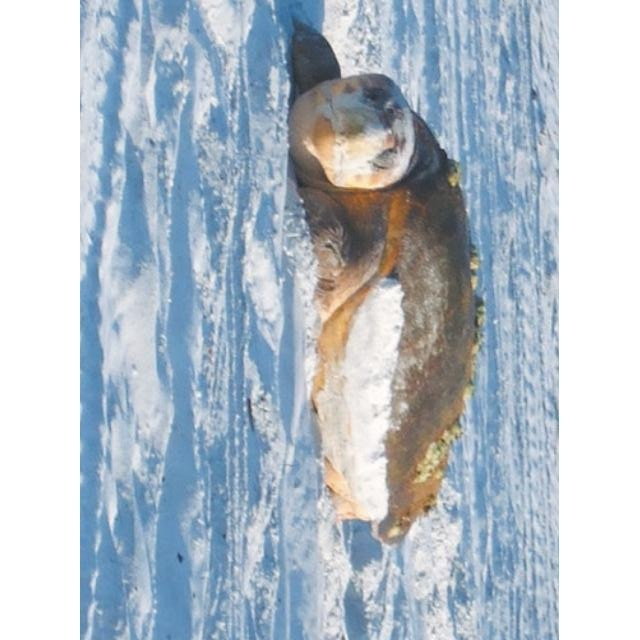turtle: (291, 18, 483, 545)
